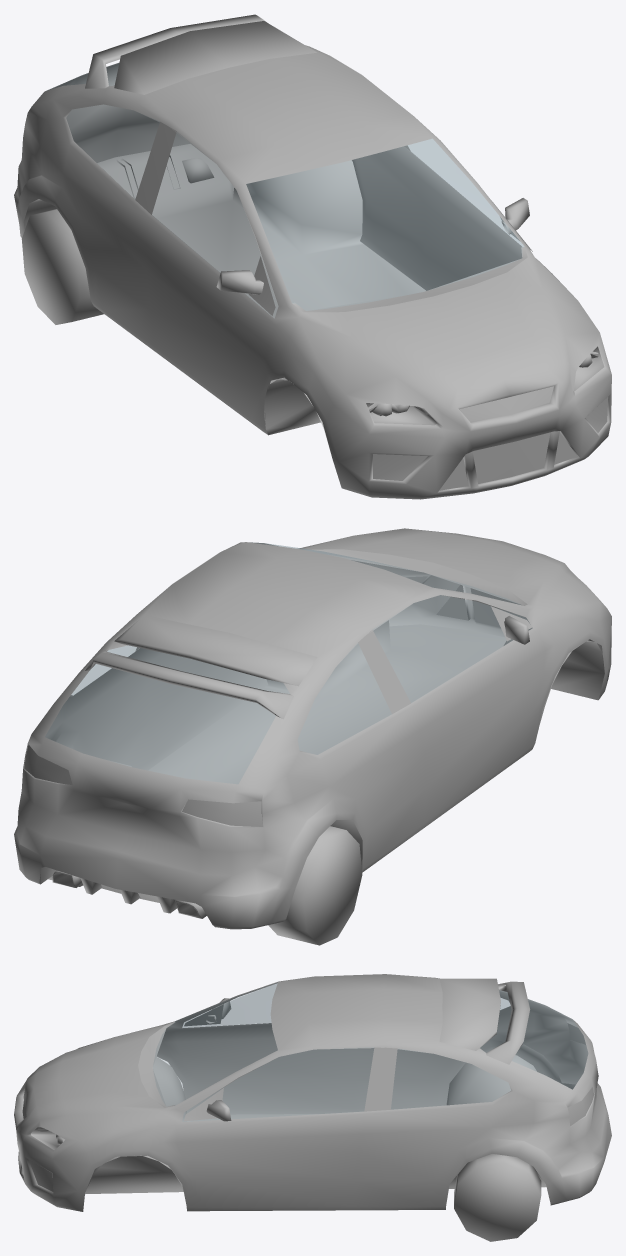
File: Car_16_LOD1.FBX
3 views of the same model, one above another, from view 1: azimuth 30°, elevation 25°; view 2: azimuth 150°, elevation 25°; view 3: azimuth 270°, elevation 25° (orthographic). The views are drawn at different scales.
Parts seen in each view (by area): view 1: Body_16, Matte_16, Glass_16, Wheel_BackR; view 2: Body_16, Matte_16, Glass_16, Wheel_BackR, Taillight_16; view 3: Body_16, Glass_16, Matte_16, Wheel_BackL, Taillight_16.
Boxes of the visible parts, <box> form: Body_16: <box>14,45,611,499</box>; Matte_16: <box>23,14,608,490</box>; Glass_16: <box>49,63,524,317</box>; Wheel_BackR: <box>21,209,103,324</box>; Body_16: <box>14,528,611,929</box>; Matte_16: <box>39,549,604,918</box>; Glass_16: <box>45,542,531,783</box>; Wheel_BackR: <box>268,826,362,945</box>; Taillight_16: <box>24,744,262,826</box>; Body_16: <box>14,974,611,1211</box>; Glass_16: <box>153,983,587,1121</box>; Matte_16: <box>22,978,546,1194</box>; Wheel_BackL: <box>454,1154,541,1241</box>; Taillight_16: <box>567,1023,594,1125</box>.
Size of what is drawn, in the model's own units: 1.92 by 1.51 by 4.31.
